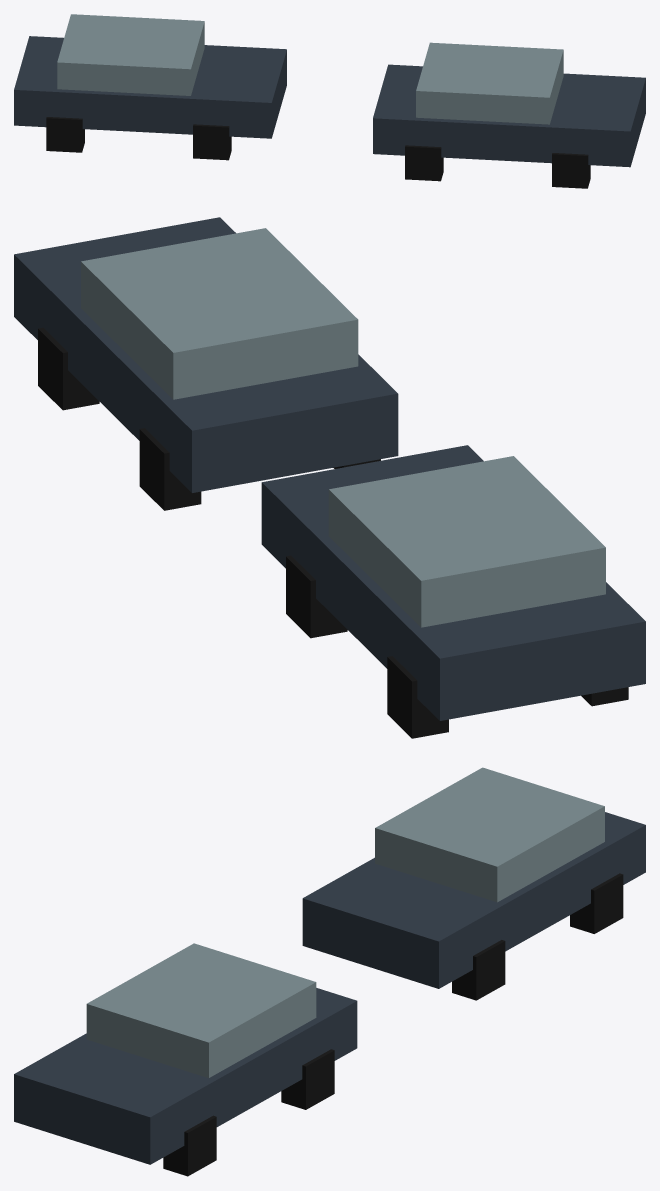
File: cell-90_-810.glb
3 views of the same model, one above another, from view 1: azimuth 30°, elevation 25°; view 2: azimuth 150°, elevation 25°; view 3: azimuth 270°, elevation 25° (orthographic). The views are drawn at different scales.
Visible parts, largest first — view 1: cell-90_-810; view 2: cell-90_-810; view 3: cell-90_-810.
Part boxes in pixels (x1=…): cell-90_-810: x1=14, y1=14, x2=645, y2=188; cell-90_-810: x1=14, y1=217, x2=645, y2=738; cell-90_-810: x1=14, y1=767, x2=645, y2=1176.
Bounding box in the file's own units: 3.49 × 0.638 × 2.89.
